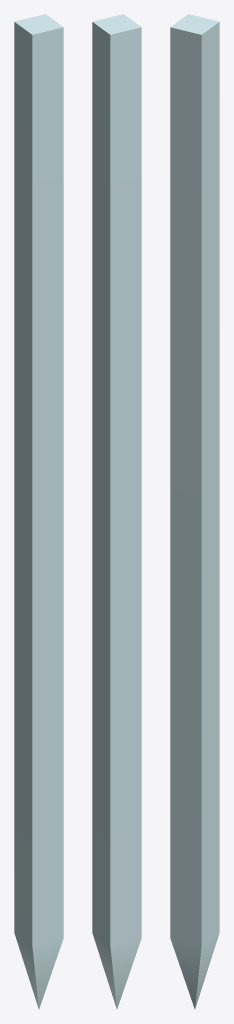
The model's file is SS_Castle_GateBlocker2.fbx.
The picture shows the model from 3 angles, left to right: view 1: azimuth 30°, elevation 25°; view 2: azimuth 210°, elevation 25°; view 3: azimuth 330°, elevation 25°; orthographic projection.
Visible parts, largest first — view 1: Castle_GateBlocker2; view 2: Castle_GateBlocker2; view 3: Castle_GateBlocker2.
Part boxes in pixels (box(x1,y1,x2,y2)): Castle_GateBlocker2: box(14, 14, 63, 1009); Castle_GateBlocker2: box(92, 14, 141, 1009); Castle_GateBlocker2: box(170, 14, 219, 1009).
Size of the model in its own units: 0.1 by 3 by 0.1.
